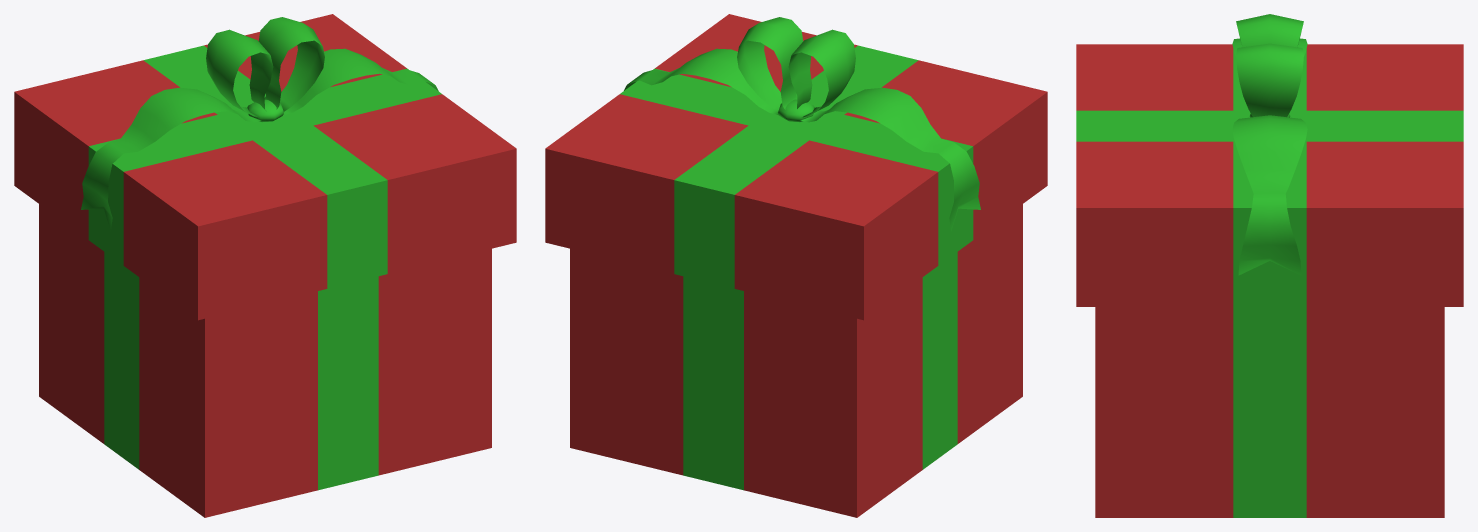
File: gift-box.fbx
The picture shows the model from 3 angles, left to right: view 1: azimuth 30°, elevation 25°; view 2: azimuth 150°, elevation 25°; view 3: azimuth 270°, elevation 25°; orthographic projection. The views are drawn at different scales.
Parts seen in each view (by area): view 1: caja; view 2: caja; view 3: caja.
Boxes of the visible parts, x1,y1,x2,y2 form: caja: (14, 14, 516, 517); caja: (545, 14, 1047, 517); caja: (1076, 14, 1463, 517).
Bounding box in the file's own units: 62.96 × 69.08 × 58.88.
